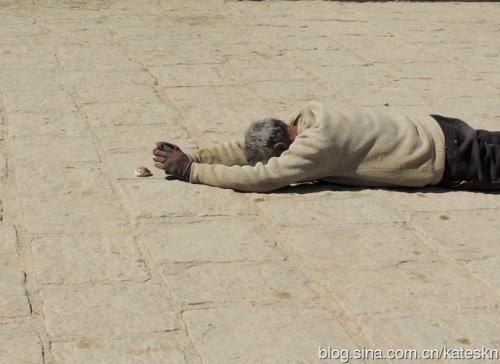falling: (137, 90, 484, 202)
